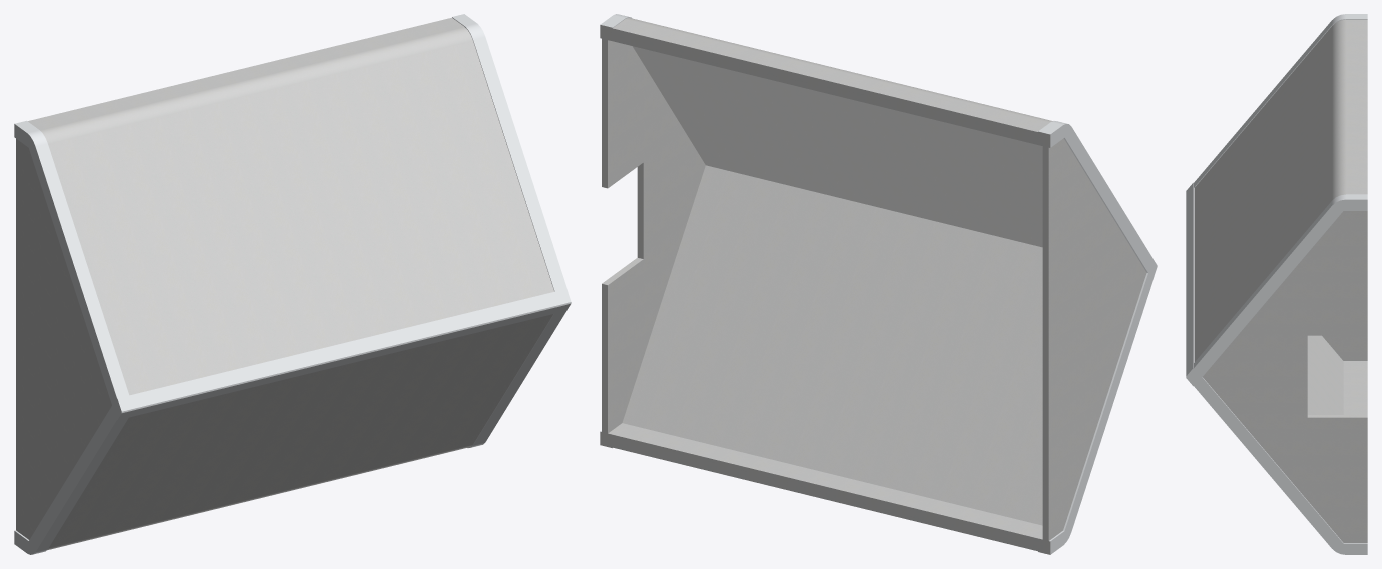
The model's file is APT Roof v2.obj.
3 views of the same model, side by side, from view 1: azimuth 30°, elevation 25°; view 2: azimuth 150°, elevation 25°; view 3: azimuth 270°, elevation 25° (orthographic). The views are drawn at different scales.
Parts seen in each view (by area): view 1: Solid1; view 2: Solid1; view 3: Solid1.
Part boxes in pixels (<box>): Solid1: <box>14,14,571,554</box>; Solid1: <box>600,14,1157,554</box>; Solid1: <box>1186,14,1367,554</box>.
Bounding box in the file's own units: 7300 × 6520 × 3016.
Materials: 3 (1 with a texture image).
